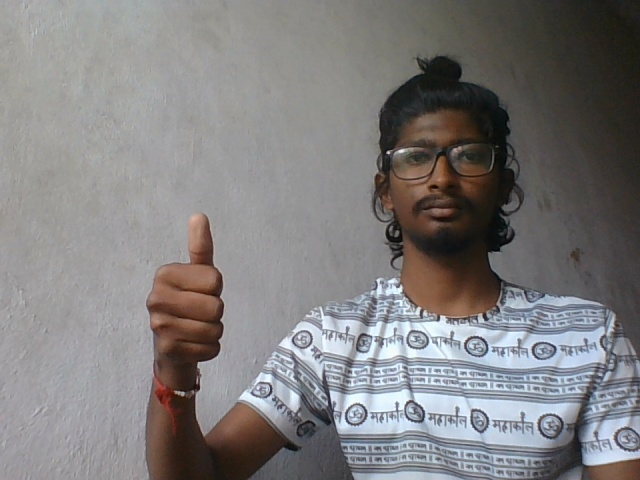Thank you: (141, 207, 232, 379)
